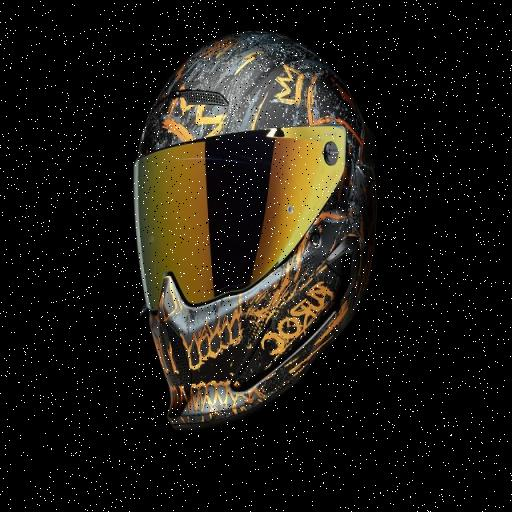Helmet: (129, 37, 372, 421)
